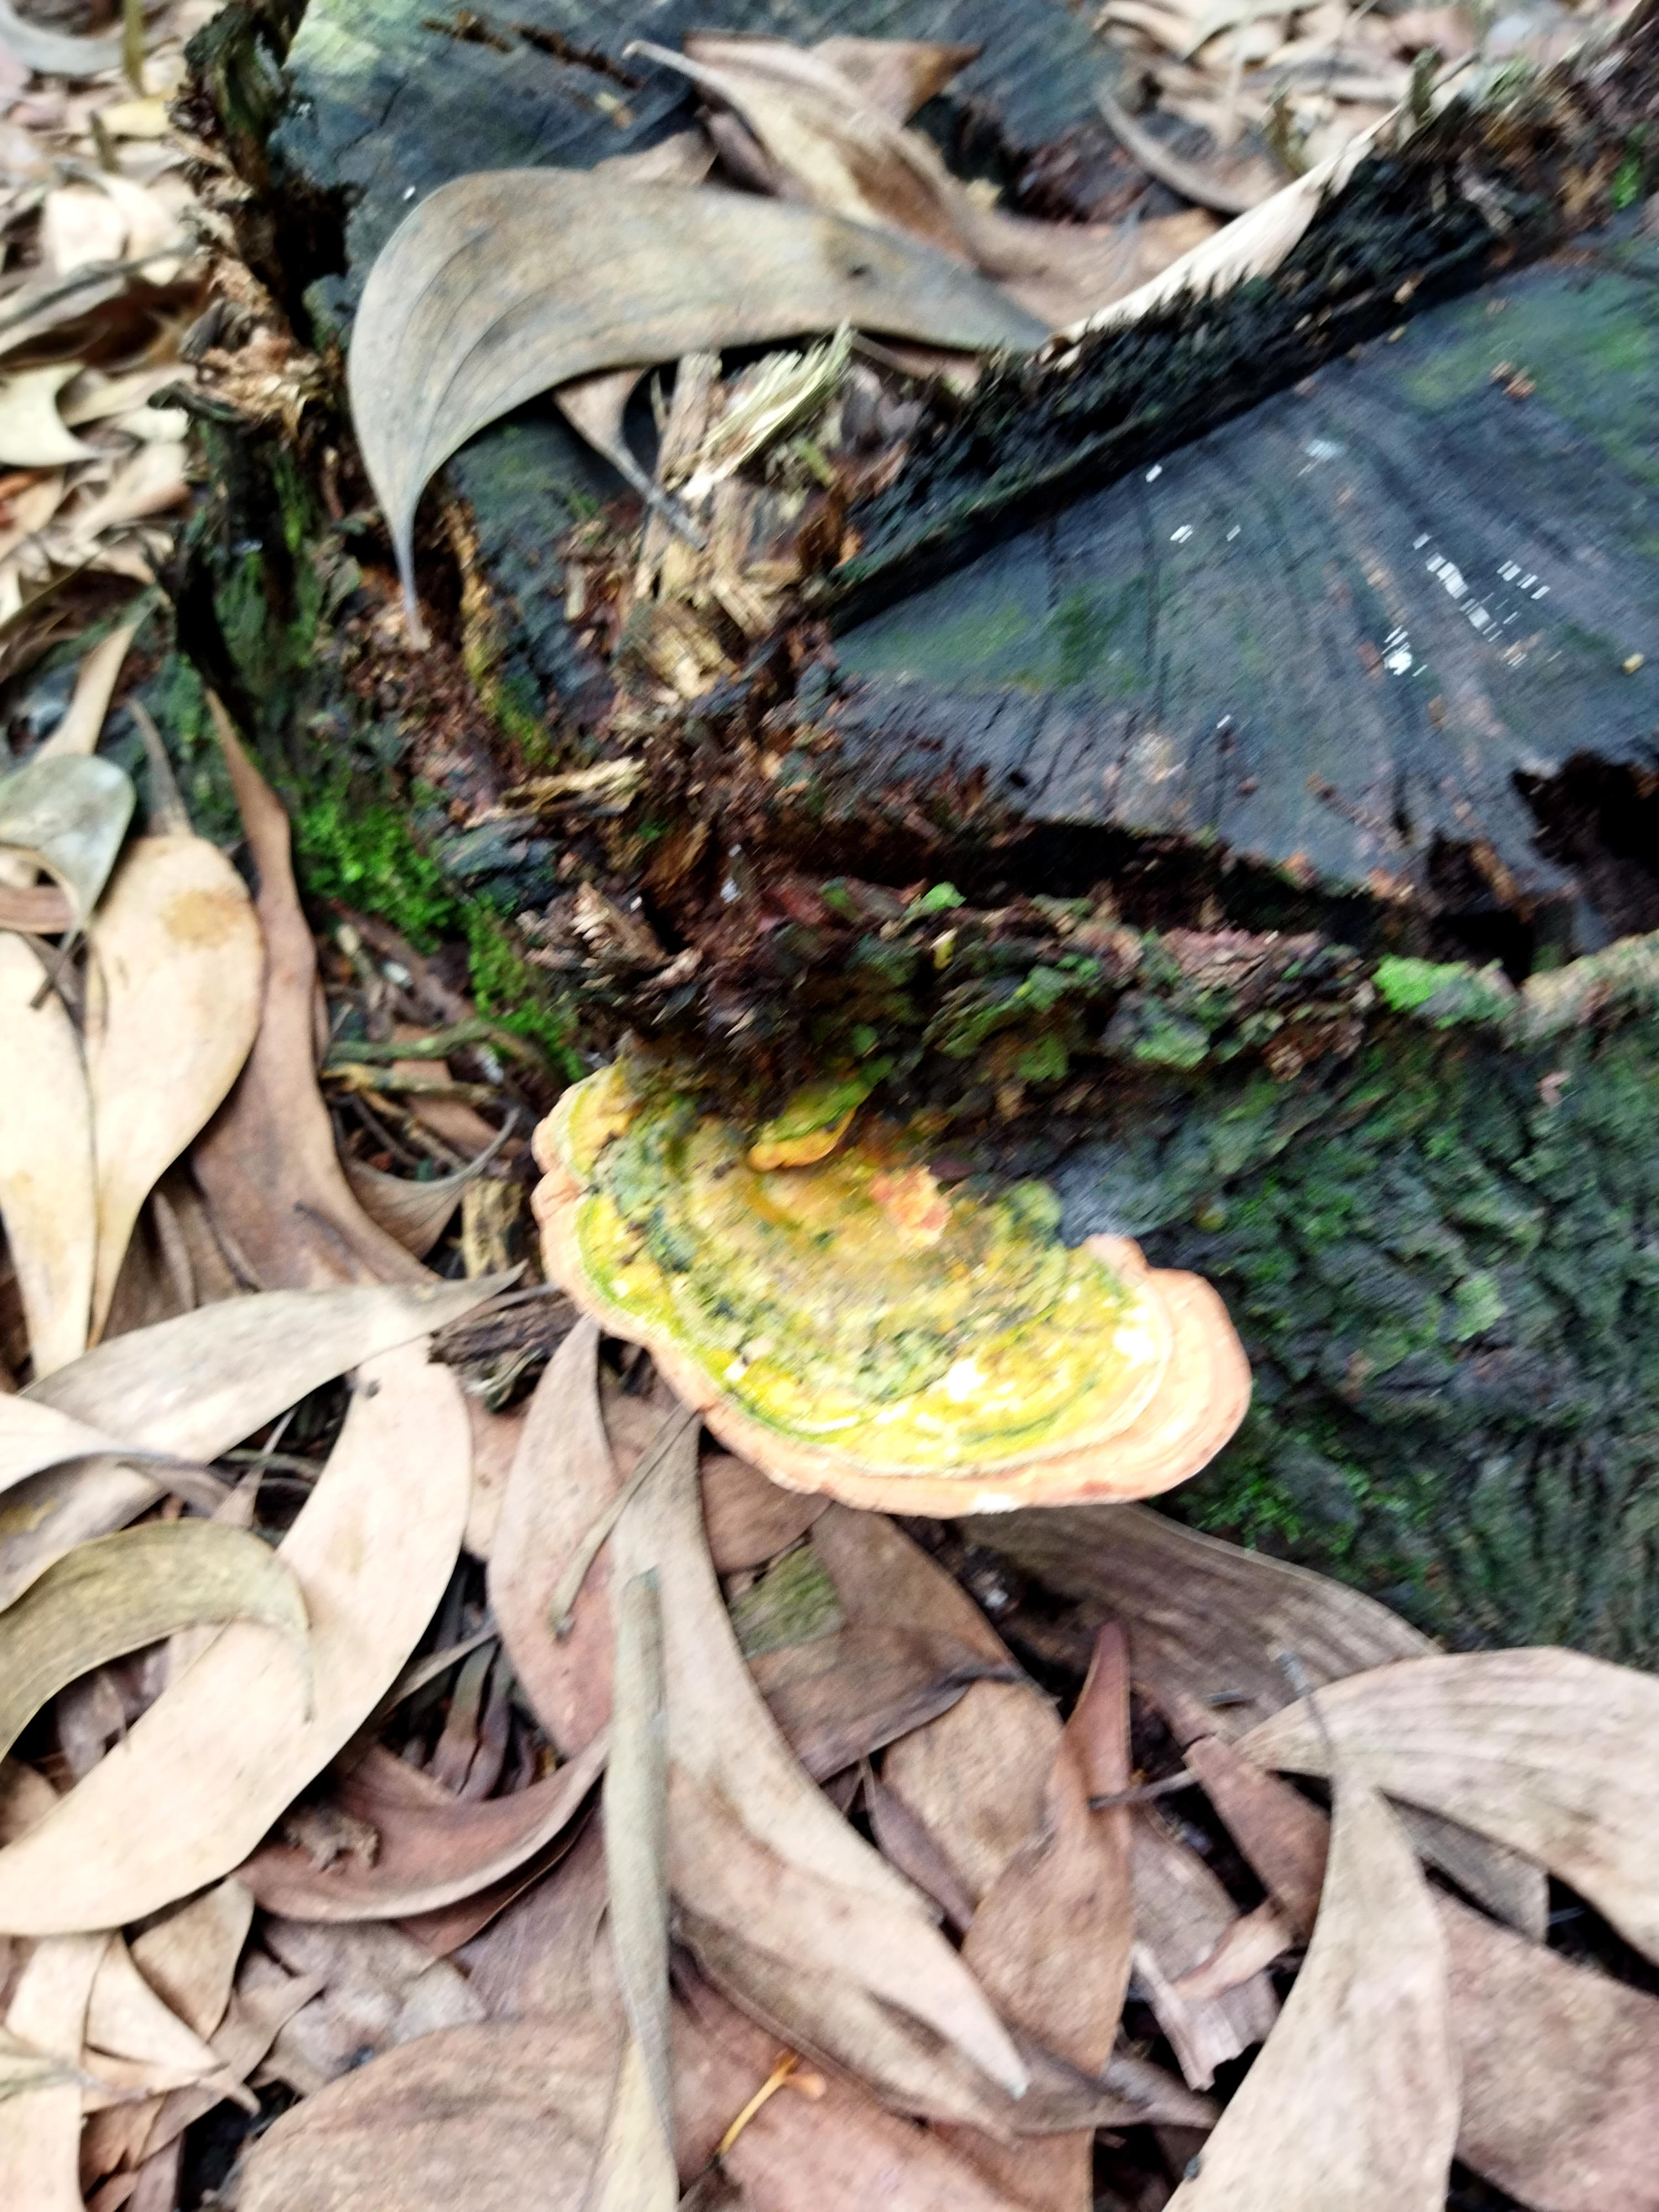Ganoderma - Fruit Body: (526, 1029, 1297, 1562)
